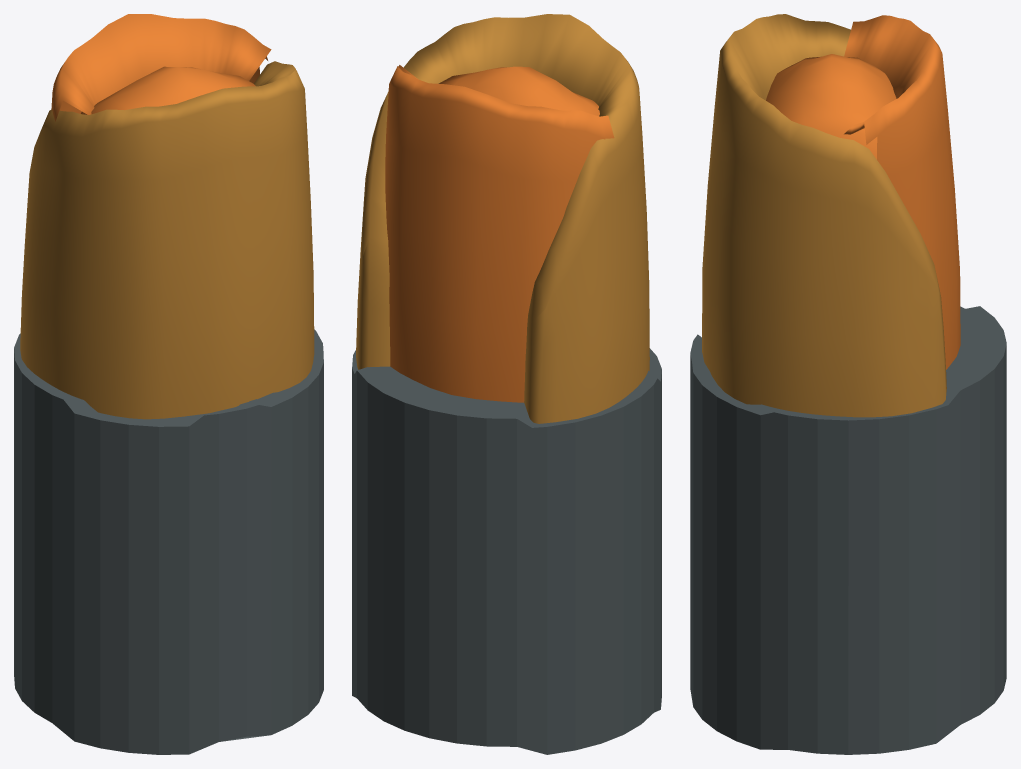
Rendered from HanrollYY.fbx.
The picture shows the model from 3 angles, left to right: view 1: azimuth 30°, elevation 25°; view 2: azimuth 150°, elevation 25°; view 3: azimuth 270°, elevation 25°; orthographic projection.
Visible parts, largest first — view 1: Cilindro, Cube.002, Cube.004, Cube.003; view 2: Cilindro, Cube.004, Cube.002, Cube.003; view 3: Cilindro, Cube.002, Cube.004, Cube.003.
Boxes of the visible parts, left/top/right/bottom form: Cilindro: left=14, top=329, right=323, bottom=754; Cube.002: left=20, top=61, right=314, bottom=419; Cube.004: left=51, top=14, right=271, bottom=121; Cube.003: left=81, top=66, right=255, bottom=114; Cilindro: left=352, top=348, right=661, bottom=754; Cube.004: left=385, top=65, right=614, bottom=402; Cube.002: left=356, top=14, right=649, bottom=423; Cube.003: left=438, top=66, right=599, bottom=116; Cilindro: left=690, top=306, right=1006, bottom=754; Cube.002: left=702, top=14, right=946, bottom=417; Cube.004: left=844, top=15, right=960, bottom=369; Cube.003: left=766, top=54, right=896, bottom=159.
Bounding box in the file's own units: 35.67 × 81.71 × 35.67.
